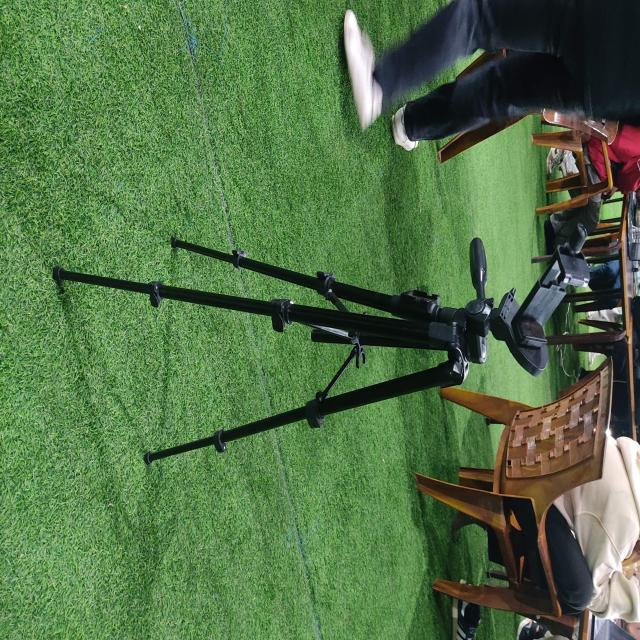Camer Stand: (52, 230, 592, 470)
Chair: (414, 356, 614, 639)
